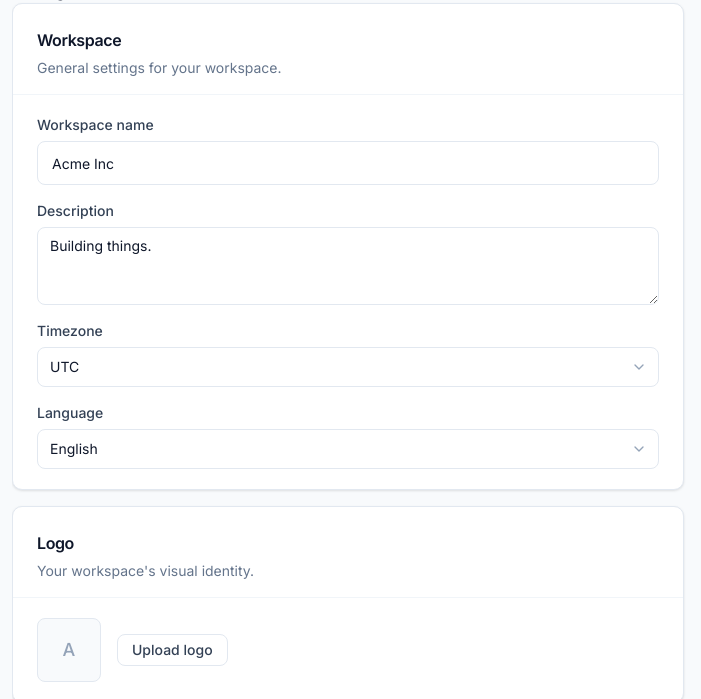
WorkspacePage › persists updated workspace settings
The width and height of the screenshot is (701, 699).
Replace the text in the field labelled "Workspace name" with "Acme Corp" at (348, 163), box [37, 141, 659, 185]
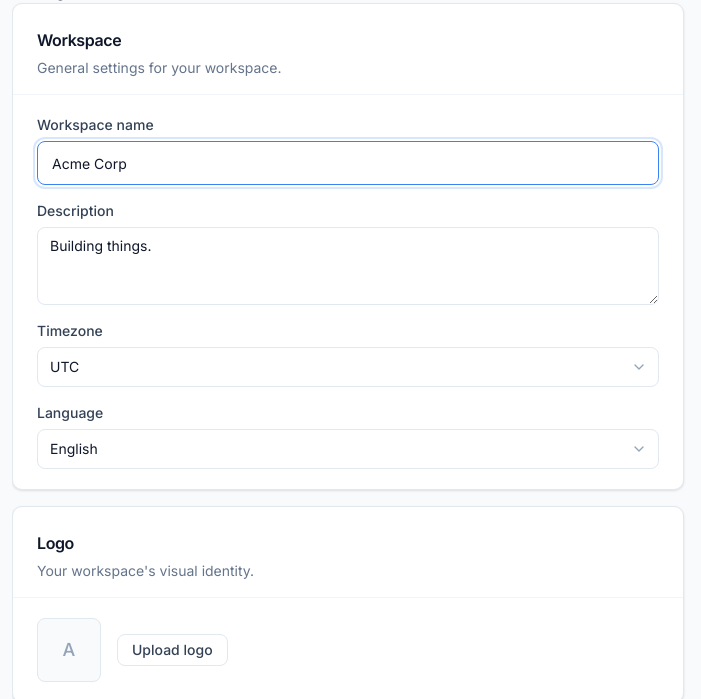
Select "Europe/Paris" in the dropdown labelled "Timezone" at (348, 367), box [37, 347, 659, 387]
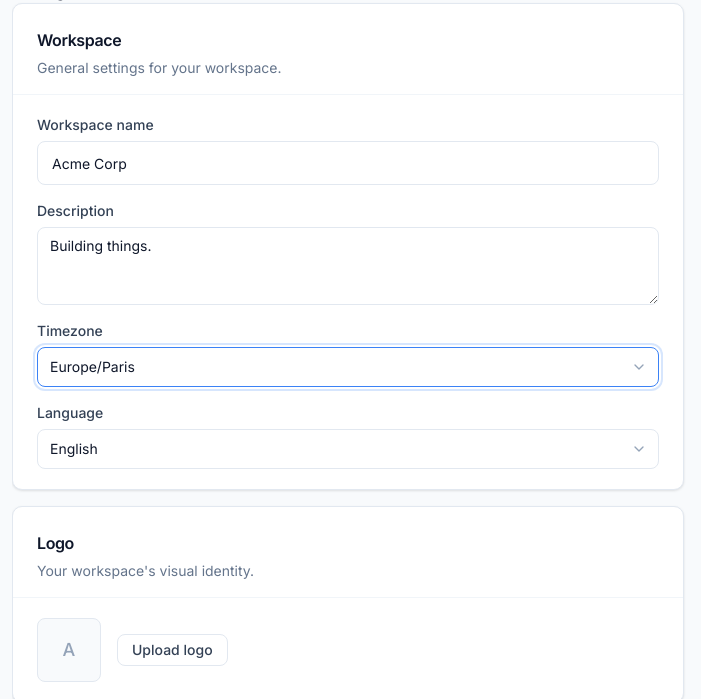
Select "Français" in the dropdown labelled "Language" at (348, 449), box [37, 429, 659, 469]
(page scrolled)
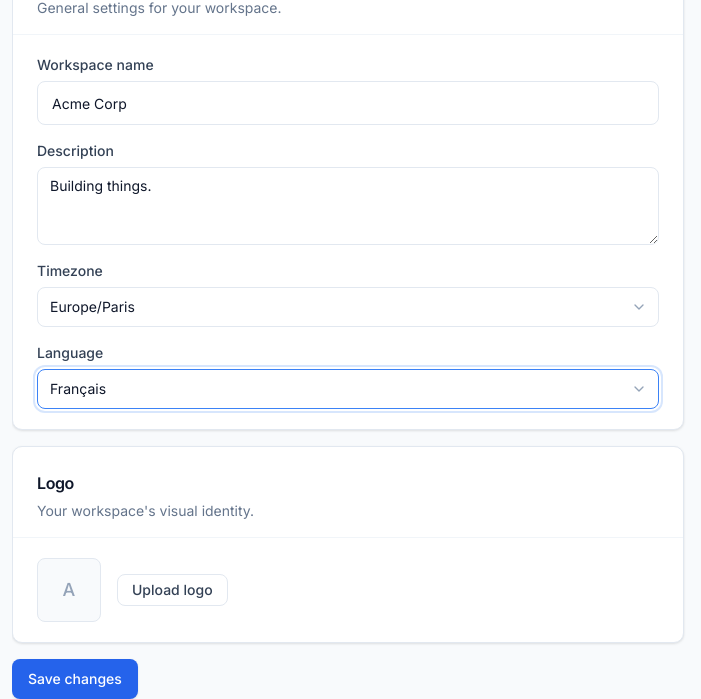
Click the button "Save changes" at (75, 679), box [12, 659, 138, 698]
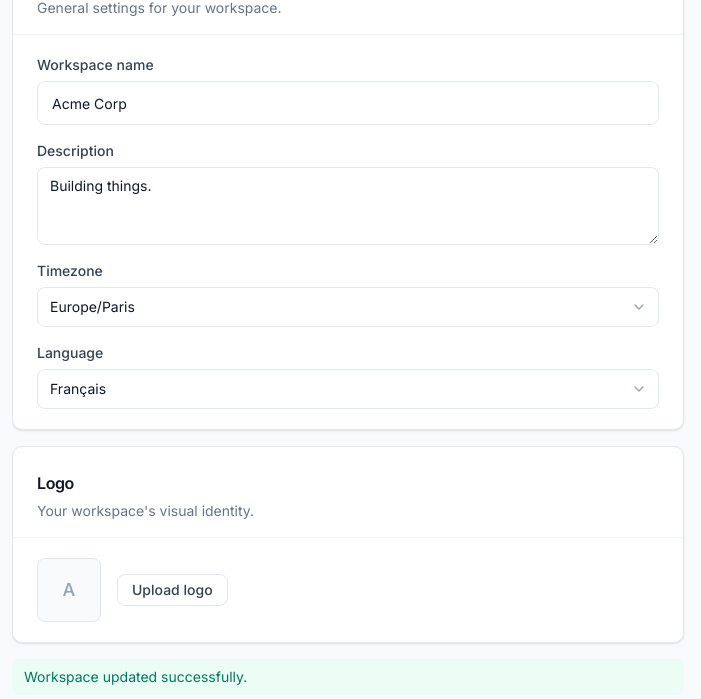
Expected: the text "Workspace updated successfully." is shown, [12, 659, 684, 695]
